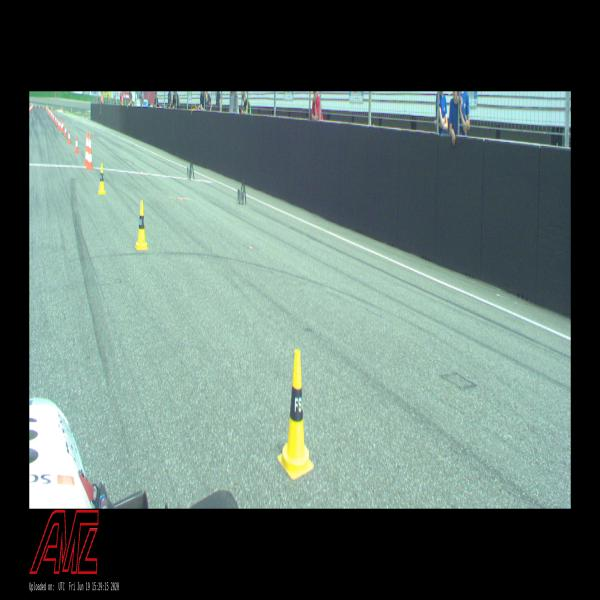large_orange_cone: (86, 134, 93, 169), (84, 132, 89, 166)
orange_cone: (74, 136, 78, 153), (68, 130, 71, 144), (64, 126, 67, 136), (62, 120, 64, 130), (58, 120, 60, 130), (56, 118, 58, 126), (61, 122, 62, 132), (58, 118, 59, 128), (55, 116, 56, 123)
yellow_cone: (278, 350, 313, 480), (135, 201, 147, 249), (98, 163, 105, 194)
